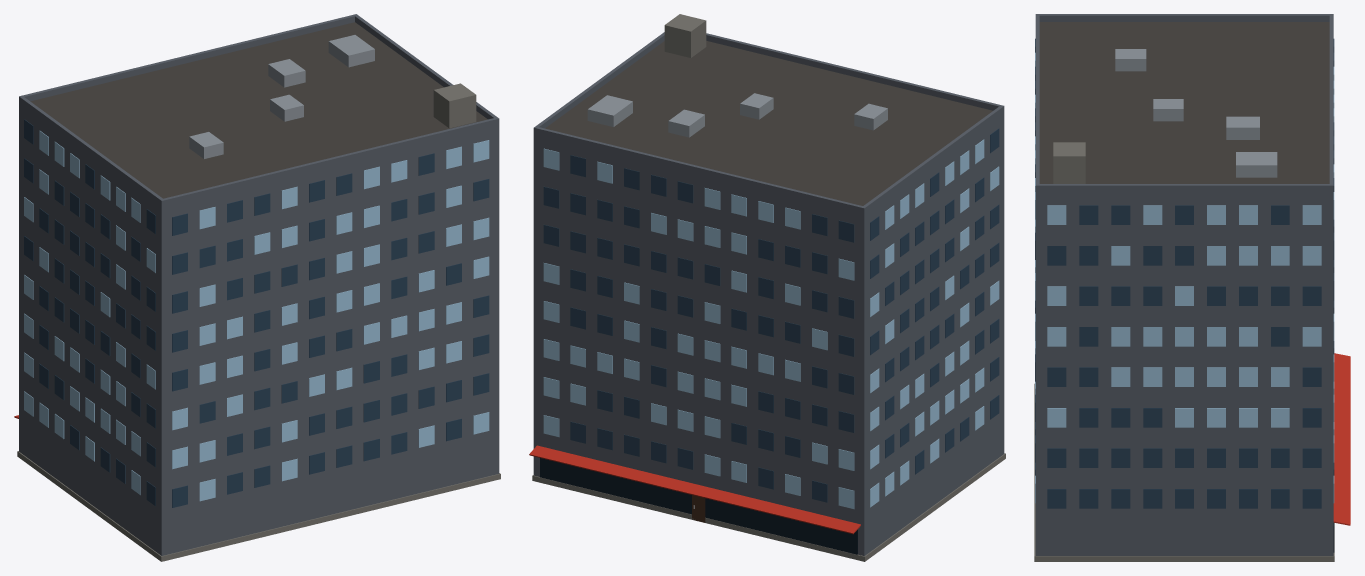
Rendered from bld_office_c.glb.
3 renders of one model, left to right at view 1: azimuth 30°, elevation 25°; view 2: azimuth 150°, elevation 25°; view 3: azimuth 270°, elevation 25°, orthographic. The views are drawn at different scales.
Parts seen in each view (by area): view 1: bld_office_c__mesh; view 2: bld_office_c__mesh; view 3: bld_office_c__mesh.
Part boxes in pixels (x1=…): bld_office_c__mesh: x1=14, y1=14, x2=500, y2=561; bld_office_c__mesh: x1=529, y1=14, x2=1005, y2=561; bld_office_c__mesh: x1=1034, y1=14, x2=1350, y2=561.
Bounding box in the file's own units: 30.16 × 32.4 × 23.33.
